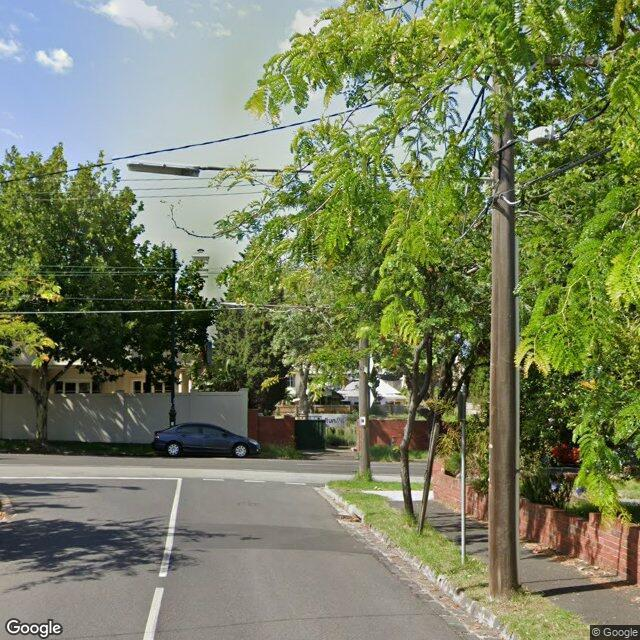streetlight: (127, 159, 493, 181)
timber-pole: (491, 61, 524, 598)
